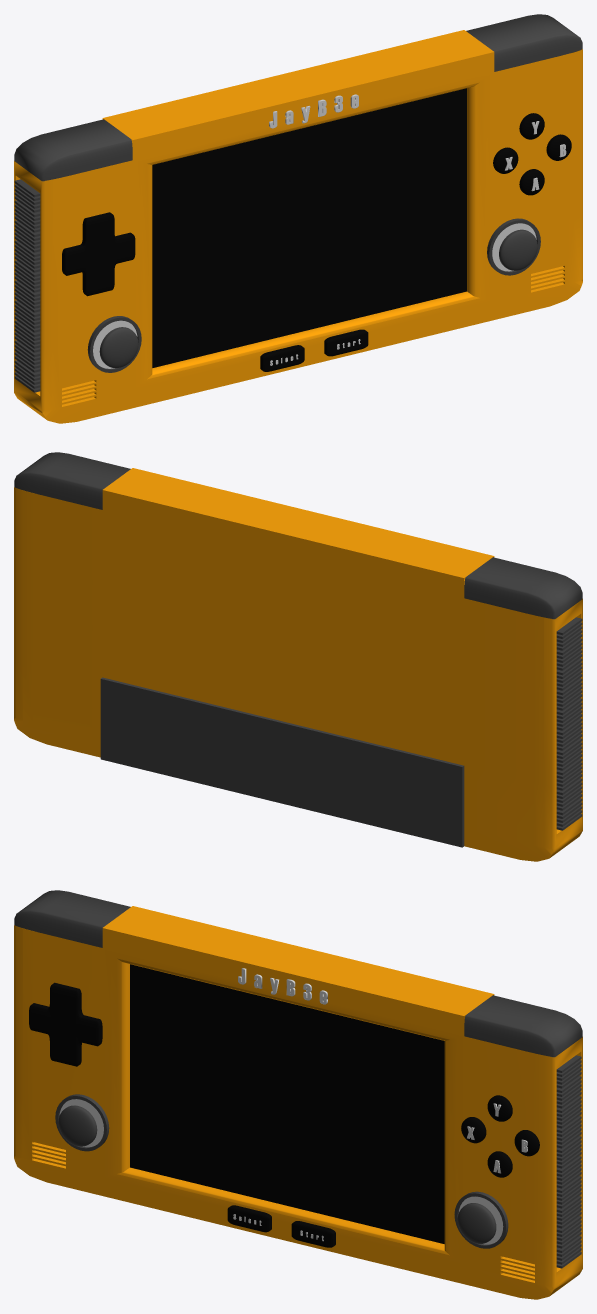
The model's file is gamepad.glb.
3 renders of one model, top to bottom at view 1: azimuth 30°, elevation 25°; view 2: azimuth 150°, elevation 25°; view 3: azimuth 330°, elevation 25°, orthographic.
Parts seen in each view (by area): view 1: Cube, Cube.001, Cube.004, Cube.005, Cube.002, Sphere.001, Sphere, Cube.003, Circle.001, Circle, Text; view 2: Cube, Cube.006, Cube.004, Cube.005; view 3: Cube, Cube.001, Cube.004, Cube.005, Cube.002, Sphere.001, Sphere, Cube.003, Circle.001, Circle, Text.
Boxes of the visible parts, x1,y1,x2,y2 form: Cube: (14,30,582,423); Cube.001: (152,88,466,367); Cube.004: (14,14,582,180); Cube.005: (14,179,44,392); Cube.002: (62,212,135,296); Sphere.001: (99,229,537,368); Sphere: (493,113,571,195); Cube.003: (260,329,368,371); Circle.001: (87,218,540,372); Circle: (93,223,536,368); Text: (269,94,358,128); Cube: (14,468,582,861); Cube.006: (100,677,464,847); Cube.004: (14,452,582,618); Cube.005: (552,617,582,830); Cube: (14,906,582,1299); Cube.001: (130,964,444,1243); Cube.004: (14,890,582,1056); Cube.005: (551,1055,581,1268); Cube.002: (29,982,102,1066); Sphere.001: (58,1105,496,1243); Sphere: (461,1095,539,1177); Cube.003: (227,1205,335,1247); Circle.001: (55,1094,508,1248); Circle: (59,1099,503,1244); Text: (238,968,327,1004).
Bounding box in the file's own units: 3.7 × 1.73 × 0.4804.
